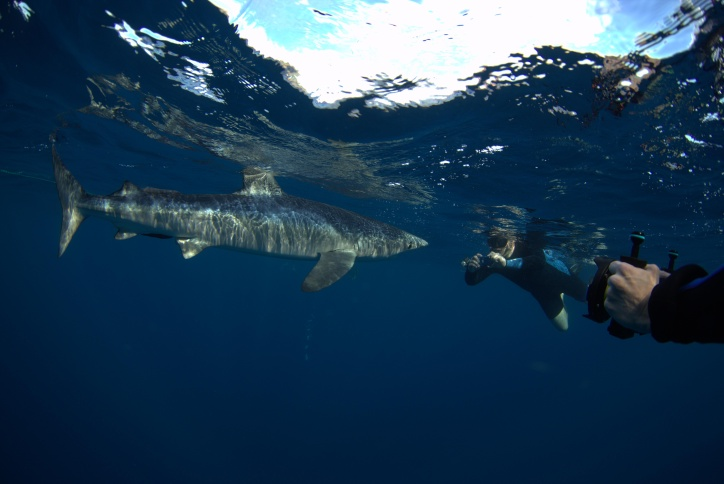Azul: (25, 131, 447, 310)
